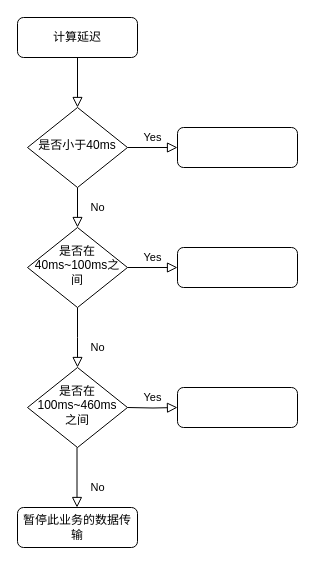
This 315x565 diagram has some shape labels left out. Each missing label, with the centre of its shape:
"最大速率减半" belongs at (237,407).
"最大速率减少50kb" belongs at (237,267).
"最大速率增加100kb" belongs at (237,147).
